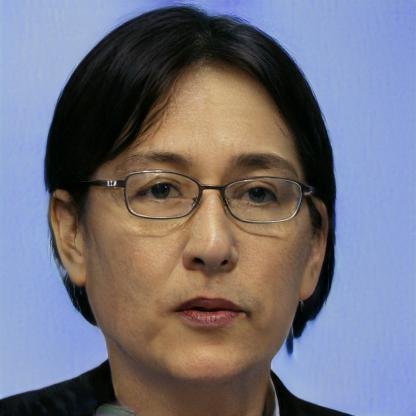glasses: (96, 169, 311, 231)
